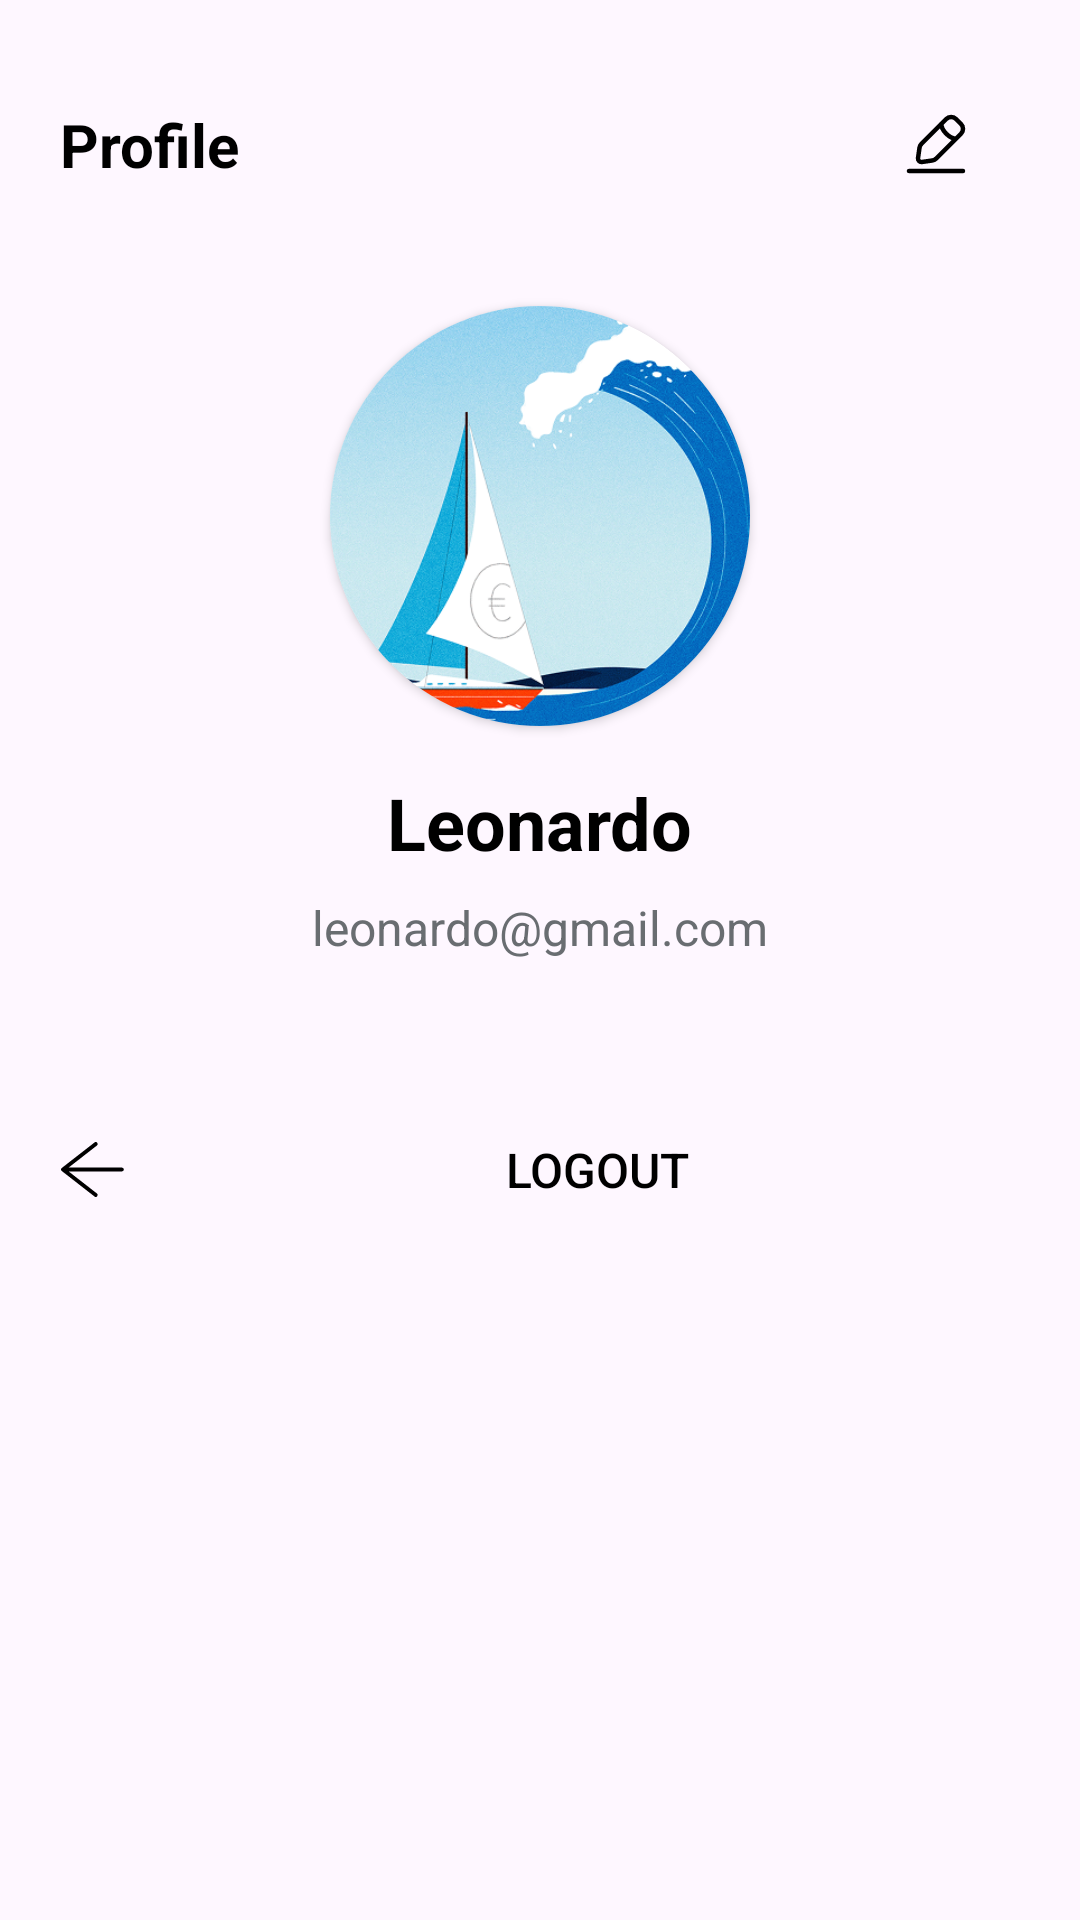

Icons on this 1080x1920 Android screen, each with the point to tap as (x,y):
Edit Profile: (936,144)
